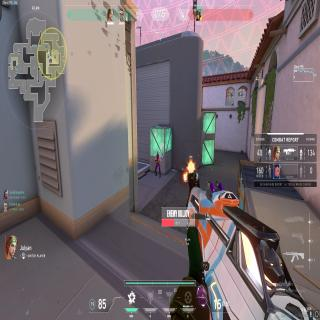ENEMY-BODY: (155, 153, 161, 177)
ENEMY-HEAD: (4, 190, 8, 199), (157, 154, 159, 158)
